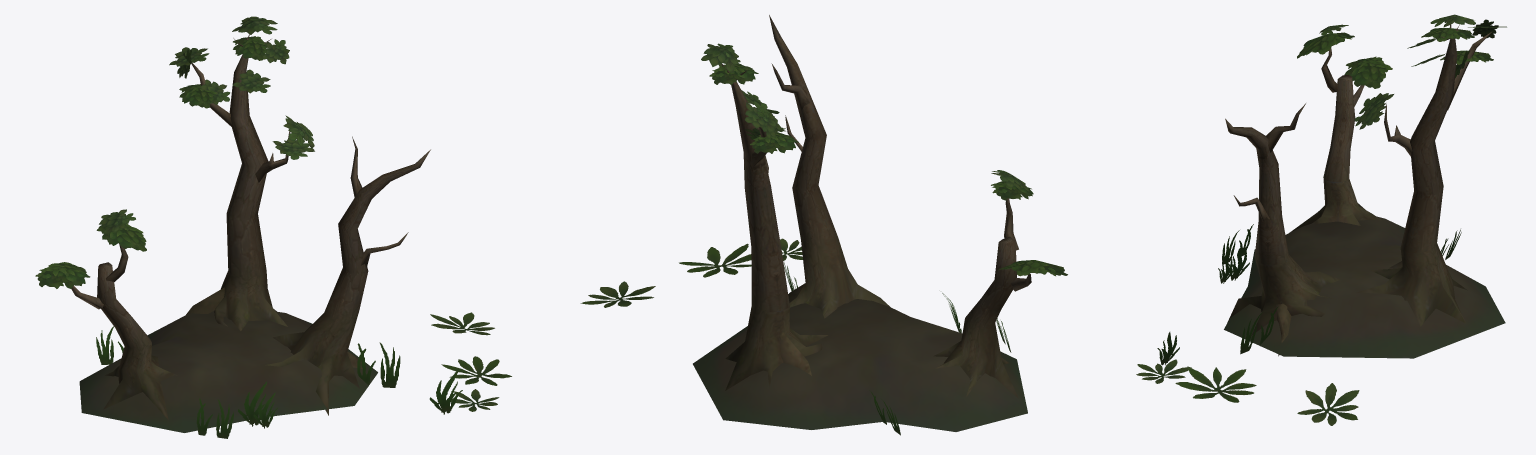
File: wm_swamp1.FBX
The picture shows the model from 3 angles, left to right: view 1: azimuth 30°, elevation 25°; view 2: azimuth 150°, elevation 25°; view 3: azimuth 270°, elevation 25°; orthographic projection. The views are drawn at different scales.
Parts seen in each view (by area): view 1: wm_swamp1; view 2: wm_swamp1; view 3: wm_swamp1.
Part boxes in pixels (left/top/right/bottom): wm_swamp1: left=35, top=16, right=511, bottom=438; wm_swamp1: left=580, top=15, right=1067, bottom=435; wm_swamp1: left=1136, top=14, right=1506, bottom=425.
Size of the model in its own units: 0.9825 by 0.6115 by 0.6963.
1 material, 1 textured.
